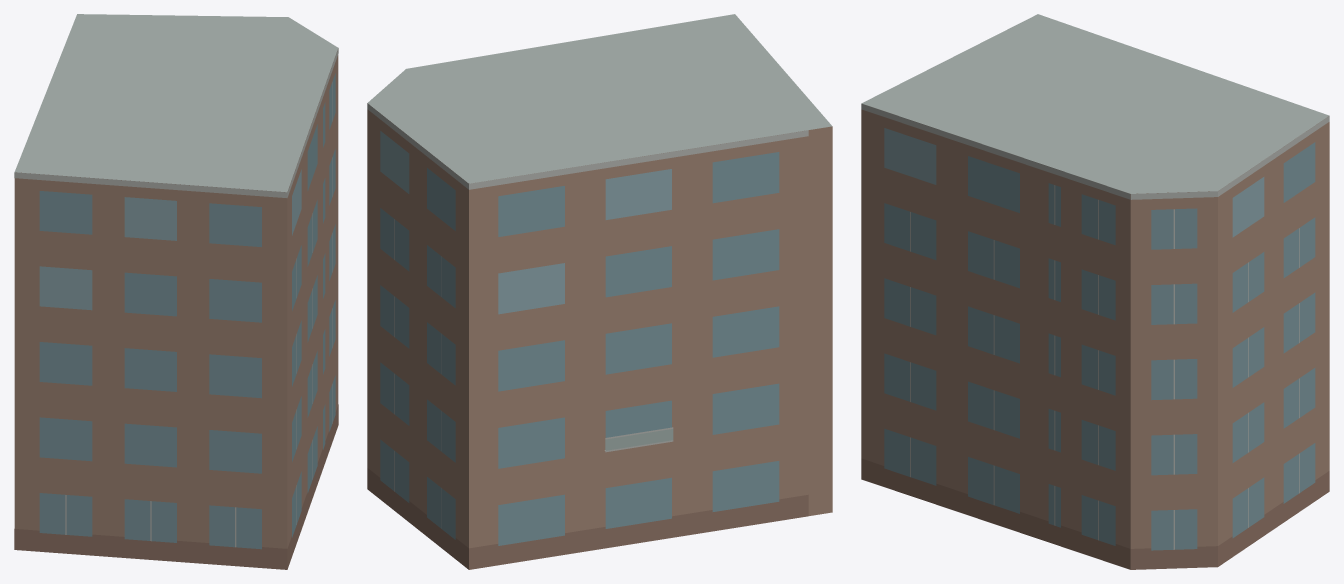
File: survey-upis-32673568.glb
3 renders of one model, left to right at view 1: azimuth 30°, elevation 25°; view 2: azimuth 150°, elevation 25°; view 3: azimuth 270°, elevation 25°, orthographic. The views are drawn at different scales.
Visible parts, largest first — view 1: survey-upis-32673568.tmp; view 2: survey-upis-32673568.tmp; view 3: survey-upis-32673568.tmp.
Boxes of the visible parts, box(x1,y1,x2,y2) form: survey-upis-32673568.tmp: box(14, 14, 338, 569); survey-upis-32673568.tmp: box(367, 14, 832, 569); survey-upis-32673568.tmp: box(861, 14, 1329, 569).
Size of the model in its own units: 15.99 by 15.57 by 17.59.
